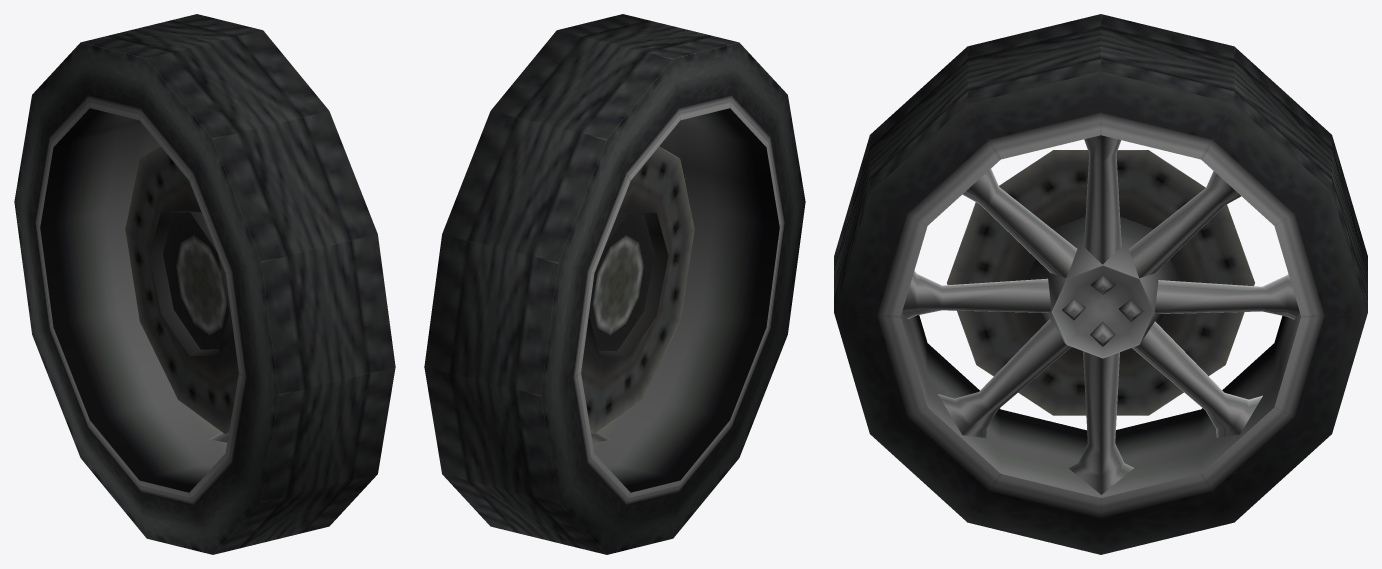
File: wheel_sr3.glb
The picture shows the model from 3 angles, left to right: view 1: azimuth 30°, elevation 25°; view 2: azimuth 150°, elevation 25°; view 3: azimuth 270°, elevation 25°; orthographic projection.
Parts seen in each view (by area): view 1: wheel_sr3; view 2: wheel_sr3; view 3: wheel_sr3.
Boxes of the visible parts, bbox=[...] form: wheel_sr3: bbox=[14, 14, 395, 554]; wheel_sr3: bbox=[424, 14, 805, 554]; wheel_sr3: bbox=[834, 14, 1367, 554].
Size of the model in its own units: 0.2863 by 0.9843 by 0.9843.
2 materials, 2 textured.
